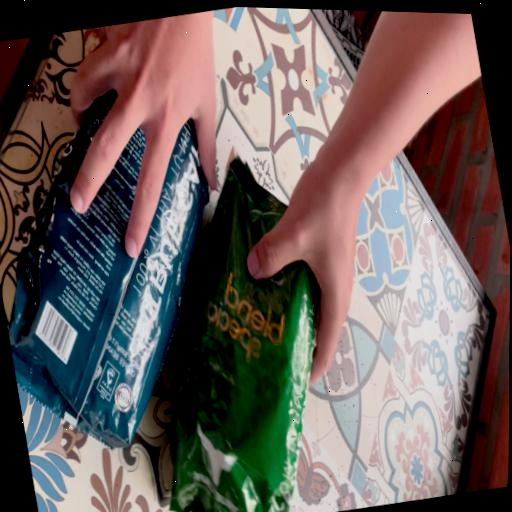cafe_hat: (7, 92, 207, 448)
cafe_xay: (169, 158, 315, 512)
